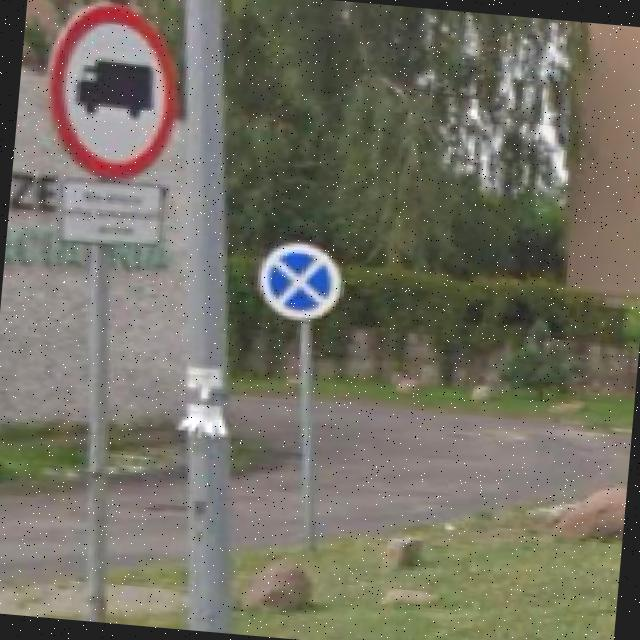Zakaz zatrzymywania sie: (256, 240, 344, 324)
